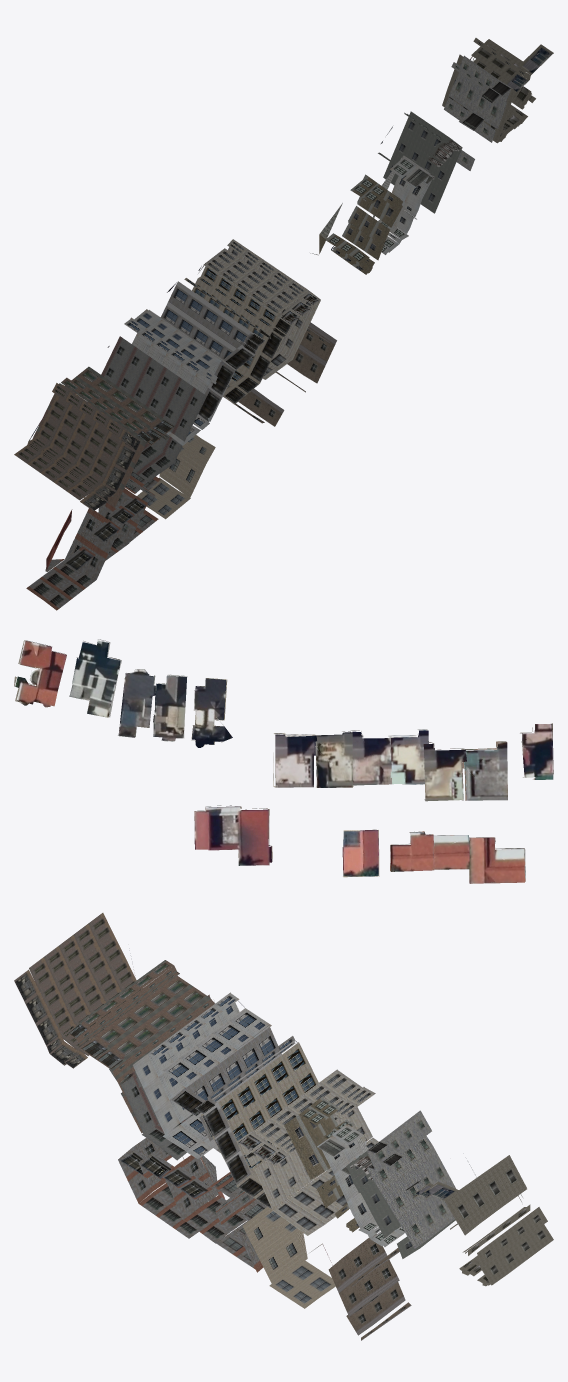
File: tile_LOD4_r15_c6.glb
3 views of the same model, one above another, from view 1: azimuth 30°, elevation 25°; view 2: azimuth 150°, elevation 25°; view 3: azimuth 270°, elevation 25° (orthographic). The views are drawn at different scales.
Bounding box in the file's own units: 153 × 72.75 × 91.
Materials: 75 (75 with a texture image).
